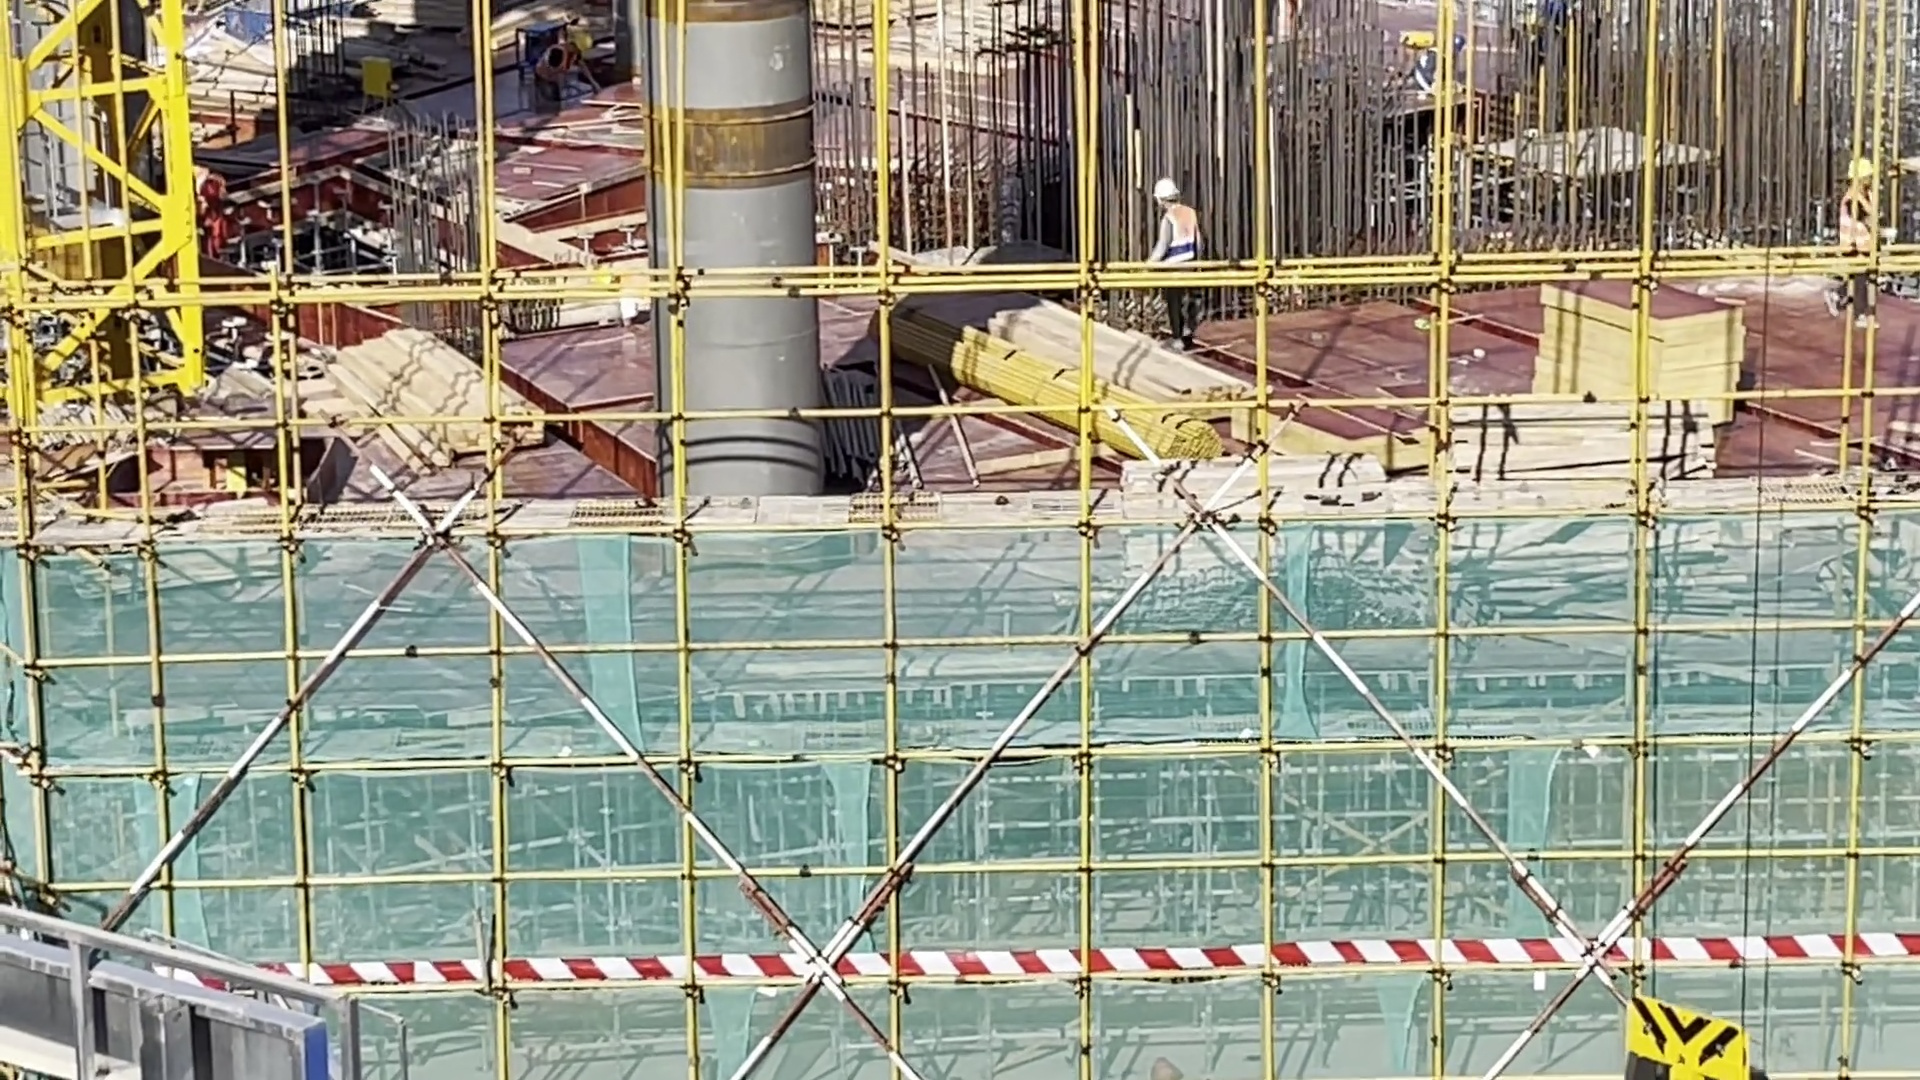board: (1534, 262, 1776, 441)
cutter: (179, 397, 334, 516)
ebox: (361, 41, 394, 84), (229, 452, 254, 501)
helmet: (1843, 161, 1876, 182), (1154, 181, 1181, 204), (570, 29, 591, 50), (601, 266, 615, 293), (1455, 32, 1463, 52)
person: (1134, 175, 1222, 353), (1841, 161, 1914, 343), (539, 25, 626, 135), (191, 151, 261, 260), (599, 260, 649, 335), (1512, 1, 1564, 71), (1419, 26, 1467, 91), (1277, 1, 1303, 85)
vest: (1153, 202, 1209, 256), (206, 184, 244, 237), (1547, 1, 1584, 51), (549, 41, 578, 86), (1416, 39, 1451, 77), (1282, 1, 1301, 35), (631, 279, 653, 307)
wood: (933, 256, 1253, 411), (378, 352, 561, 467)
